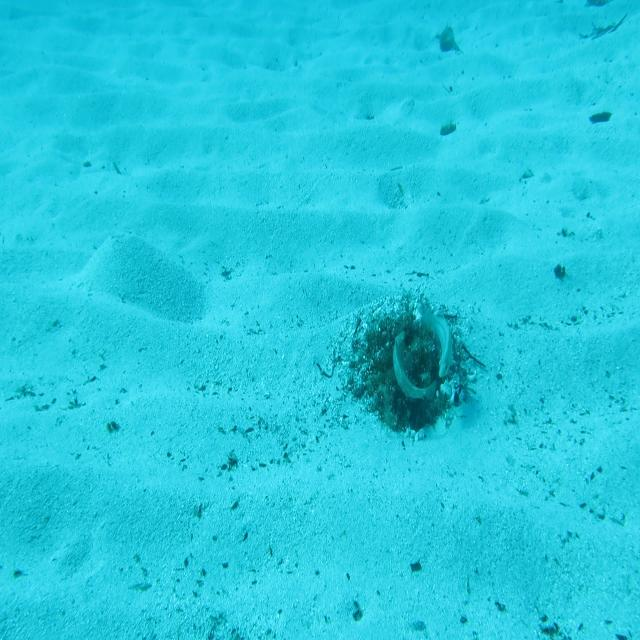DAN_CIRC: (391, 330, 439, 403)
female: (419, 307, 456, 378)
nest: (350, 291, 480, 443)
